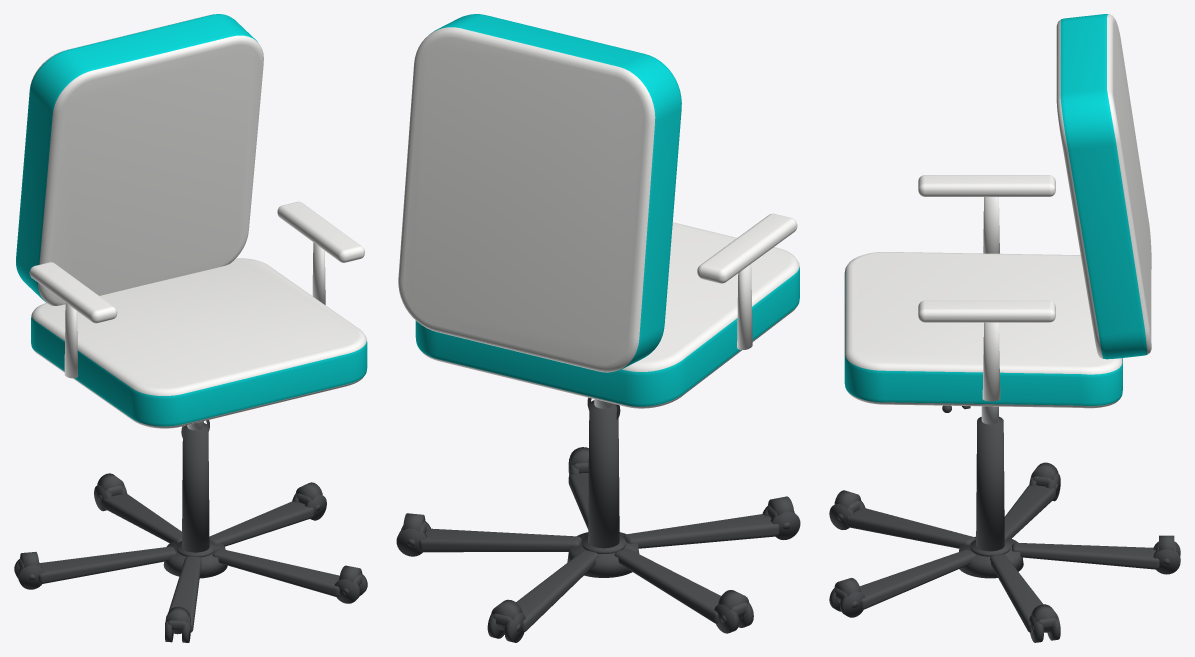
File: white-teal-chair.glb
3 views of the same model, side by side, from view 1: azimuth 30°, elevation 25°; view 2: azimuth 150°, elevation 25°; view 3: azimuth 270°, elevation 25° (orthographic). The views are drawn at different scales.
Visible parts, largest first — view 1: Back, Seat, StemHousing, Spoke_04, Spoke_01, ArmPad_L, ArmPad_R, Spoke_02, Spoke_03, Spoke_05, ArmPost_L, Hub (+1 smaller); view 2: Back, Seat, StemHousing, Spoke_02, Spoke_05, ArmPad_L, Spoke_04, Spoke_03, ArmPost_L, Hub, Spoke_01, Wheel_02R; view 3: Seat, Back, StemHousing, ArmPad_R, ArmPad_L, Spoke_03, Spoke_01, Spoke_05, Spoke_02, Spoke_04, ArmPost_R, Hub (+2 smaller).
Part boxes in pixels (bbox=[...]): Back: bbox=[16, 14, 263, 305]; Seat: bbox=[31, 258, 367, 428]; StemHousing: bbox=[182, 423, 209, 552]; Spoke_04: bbox=[38, 546, 176, 583]; Spoke_01: bbox=[212, 548, 339, 596]; ArmPad_L: bbox=[29, 262, 117, 323]; ArmPad_R: bbox=[277, 201, 364, 262]; Spoke_02: bbox=[209, 501, 313, 546]; Spoke_03: bbox=[103, 494, 181, 543]; Spoke_05: bbox=[165, 556, 201, 632]; ArmPost_L: bbox=[64, 303, 78, 378]; Hub: bbox=[163, 541, 227, 578]; Back: bbox=[398, 14, 681, 372]; Seat: bbox=[415, 222, 799, 408]; StemHousing: bbox=[588, 400, 619, 548]; Spoke_02: bbox=[419, 528, 581, 552]; Spoke_05: bbox=[623, 514, 779, 548]; ArmPad_L: bbox=[697, 213, 797, 283]; Spoke_04: bbox=[614, 548, 720, 623]; Spoke_03: bbox=[516, 550, 598, 632]; ArmPost_L: bbox=[737, 264, 752, 349]; Hub: bbox=[567, 532, 639, 577]; Spoke_01: bbox=[568, 473, 588, 529]; Wheel_02R: bbox=[396, 528, 426, 556]; Seat: bbox=[844, 252, 1122, 408]; Back: bbox=[1056, 14, 1151, 359]; StemHousing: bbox=[976, 416, 1004, 551]; ArmPad_R: bbox=[918, 300, 1055, 322]; ArmPad_L: bbox=[918, 175, 1055, 196]; Spoke_03: bbox=[1012, 542, 1159, 569]; Spoke_01: bbox=[860, 549, 976, 609]; Spoke_05: bbox=[846, 508, 975, 548]; Spoke_02: bbox=[990, 554, 1042, 632]; Spoke_04: bbox=[1004, 485, 1055, 539]; ArmPost_R: bbox=[982, 322, 1000, 401]; Hub: bbox=[959, 536, 1023, 578].
Bounding box in the file's own units: 0.666 × 1.03 × 0.6334.
